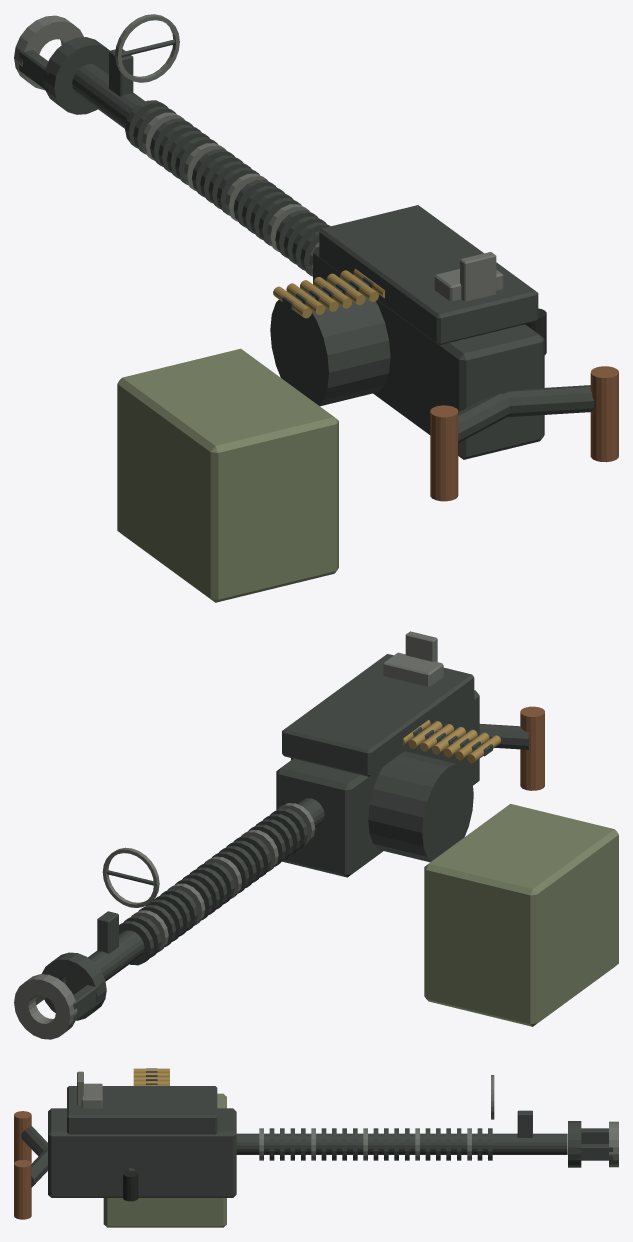
Rendered from dshk-support.glb.
3 views of the same model, one above another, from view 1: azimuth 30°, elevation 25°; view 2: azimuth 150°, elevation 25°; view 3: azimuth 270°, elevation 25° (orthographic). The views are drawn at different scales.
Visible parts, largest first — view 1: DShKBody_olive paint, DShKBody_phosphate steel, MountedFeedCover_phosphate steel, DShKBody_worn edges, MountedSpadeGripLeft_oiled wood, MountedBeltSegment_brass, MountedSpadeGripRight_oiled wood, MountedCoverLatch_worn edges; view 2: DShKBody_olive paint, DShKBody_phosphate steel, MountedFeedCover_phosphate steel, DShKBody_worn edges, MountedBeltSegment_brass, MountedSpadeGripLeft_oiled wood, MountedCoverLatch_worn edges; view 3: DShKBody_phosphate steel, MountedFeedCover_phosphate steel, DShKBody_olive paint, DShKBody_worn edges, MountedSpadeGripRight_oiled wood, MountedSpadeGripLeft_oiled wood, MountedBeltSegment_brass, MountedCoverLatch_worn edges, MountedChargingGrip_black rubber.
Boxes of the visible parts, box(x1,y1,x2,y2) form: DShKBody_olive paint: box(117, 348, 338, 602); DShKBody_phosphate steel: box(19, 37, 594, 459); MountedFeedCover_phosphate steel: box(319, 205, 538, 345); DShKBody_worn edges: box(14, 14, 496, 301); MountedSpadeGripLeft_oiled wood: box(430, 405, 458, 501); MountedBeltSegment_brass: box(273, 269, 384, 318); MountedSpadeGripRight_oiled wood: box(590, 366, 618, 462); MountedCoverLatch_worn edges: box(434, 269, 503, 301); DShKBody_olive paint: box(424, 804, 618, 1026); DShKBody_phosphate steel: box(35, 690, 528, 1021); MountedFeedCover_phosphate steel: box(282, 654, 474, 776); DShKBody_worn edges: box(14, 631, 437, 1039); MountedBeltSegment_brass: box(403, 720, 500, 763); MountedSpadeGripLeft_oiled wood: box(520, 706, 544, 790); MountedCoverLatch_worn edges: box(383, 652, 443, 686); DShKBody_phosphate steel: box(21, 1108, 613, 1197); MountedFeedCover_phosphate steel: box(67, 1086, 217, 1134); DShKBody_olive paint: box(103, 1093, 226, 1227); DShKBody_worn edges: box(77, 1071, 618, 1167); MountedSpadeGripRight_oiled wood: box(14, 1160, 31, 1219); MountedSpadeGripLeft_oiled wood: box(14, 1111, 31, 1162); MountedBeltSegment_brass: box(133, 1068, 169, 1085); MountedCoverLatch_worn edges: box(81, 1083, 102, 1108); MountedChargingGrip_black rubber: box(123, 1170, 138, 1201).
Size of the model in its own units: 0.66 by 0.54 by 1.57.
